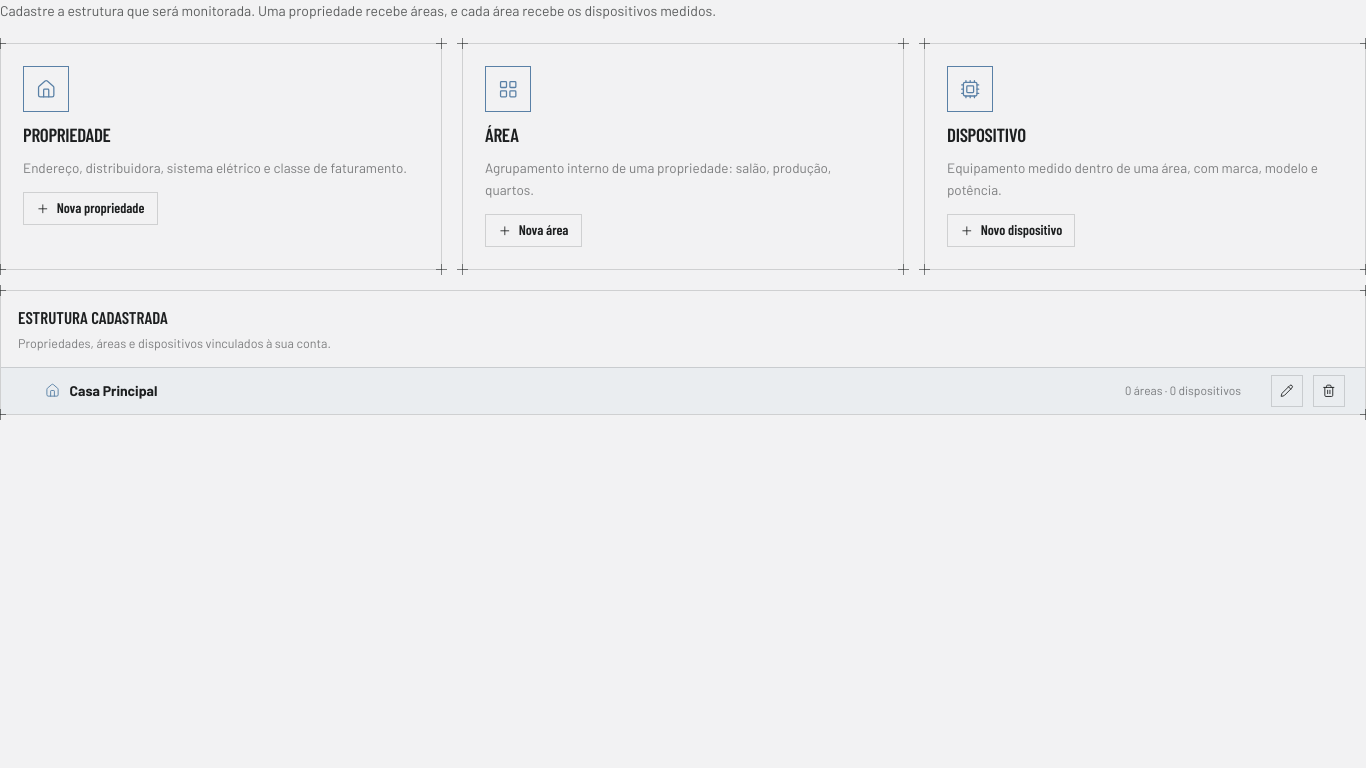
Scenario: RegistrationPage — com propriedades cadastradas › explica no modal de dispositivo quando ainda não há nenhuma área
Expected: the heading "Dispositivo" is shown, [947,124,1026,145]
Click the button "Novo dispositivo" at (1011, 230), box [947,214,1075,247]
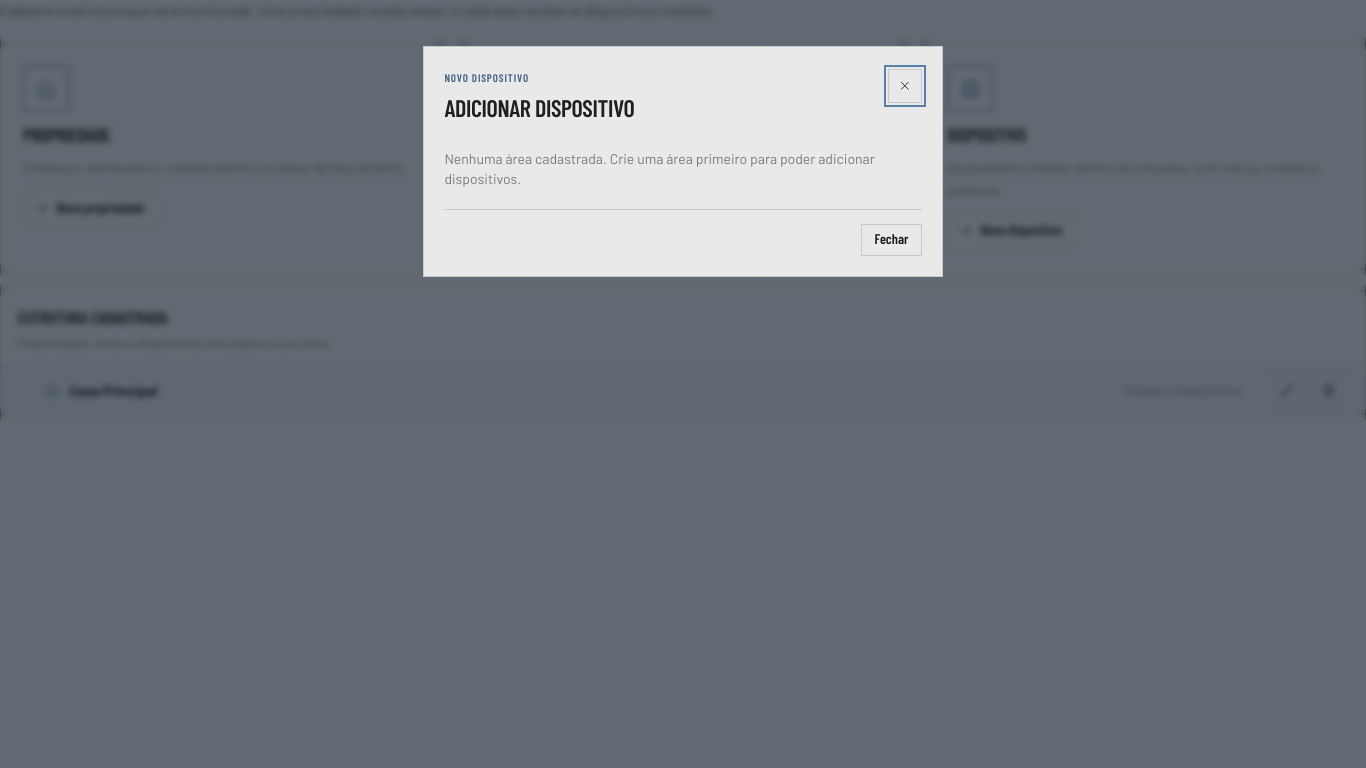
Result: the text "Nenhuma área cadastrada" is shown at [444,150,875,187]
